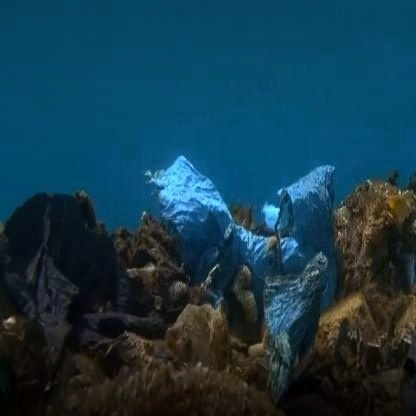plastic: (149, 183, 360, 358), (25, 214, 160, 350)
